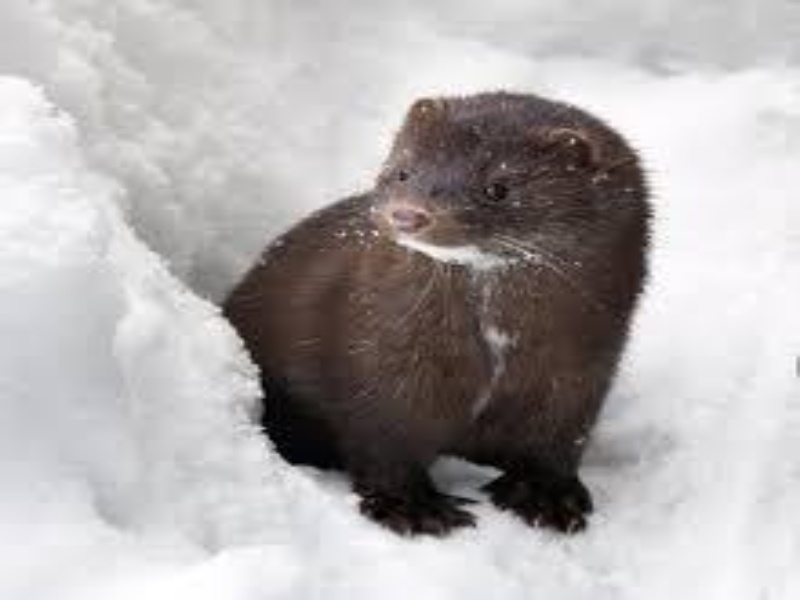minkish: (212, 84, 663, 541)
